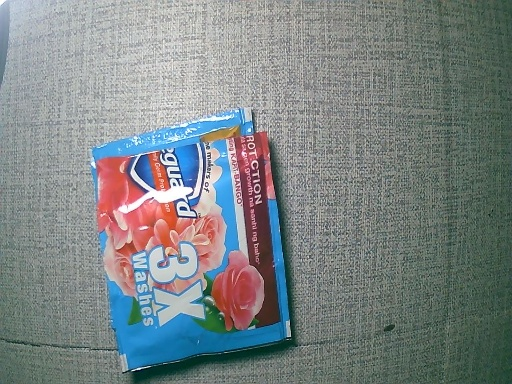plastic: (88, 105, 293, 384)
